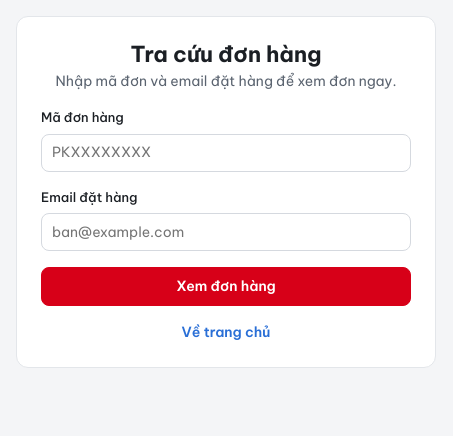
Scenario: OrderLookupPage › báo cần nhập khi bỏ trống cả hai ô
Step 1. Click the submit button → click(226, 287), box [41,267,411,306]
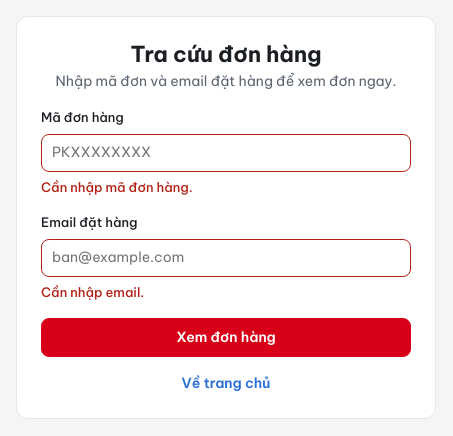
Now the text with id "order-lookup-code-error" reads "Cần nhập mã đơn hàng.", box [41,179,193,195]
Now the text with id "order-lookup-email-error" reads "Cần nhập email.", box [41,284,144,300]
